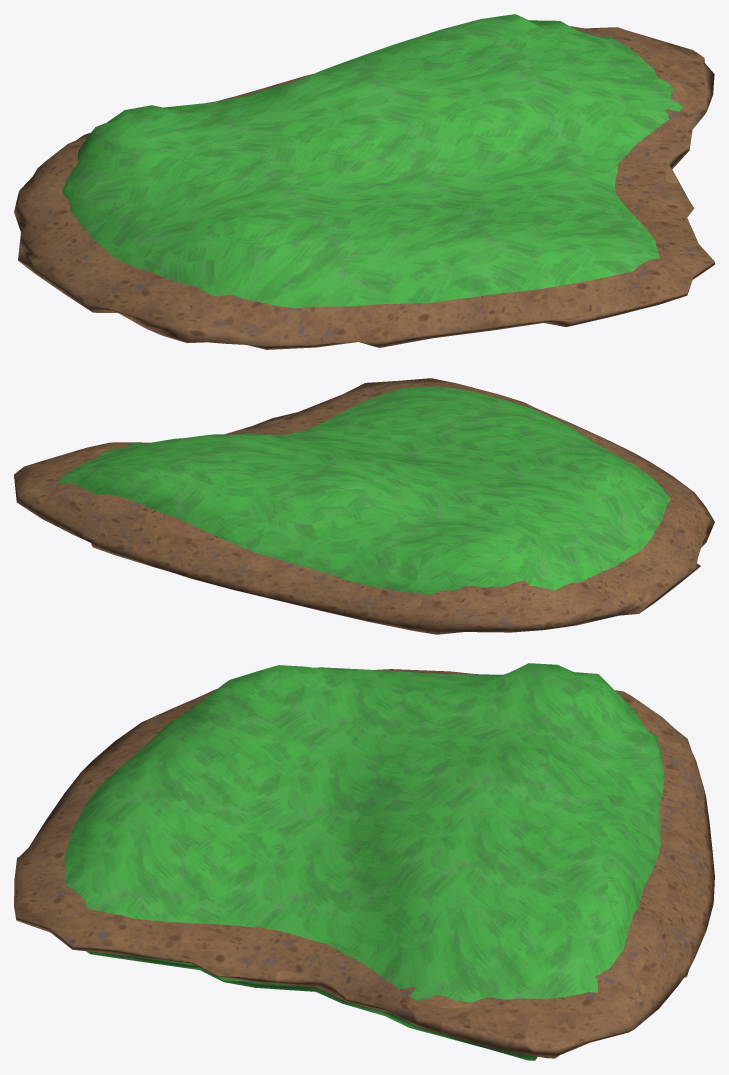
Rendered from GrassMound.glb.
3 views of the same model, one above another, from view 1: azimuth 30°, elevation 25°; view 2: azimuth 150°, elevation 25°; view 3: azimuth 270°, elevation 25° (orthographic). The views are drawn at different scales.
Visible parts, largest first — view 1: Icosphere, Icosphere.001; view 2: Icosphere, Icosphere.001; view 3: Icosphere, Icosphere.001.
Boxes of the visible parts, x1,y1,x2,y2 form: Icosphere: (62, 14, 683, 308); Icosphere.001: (14, 26, 714, 349); Icosphere: (56, 386, 670, 594); Icosphere.001: (14, 378, 714, 634); Icosphere: (64, 663, 664, 1060); Icosphere.001: (14, 669, 714, 1058).
Size of the model in its own units: 2.26 by 0.2968 by 1.74.
Materials: 2 (2 with a texture image).
